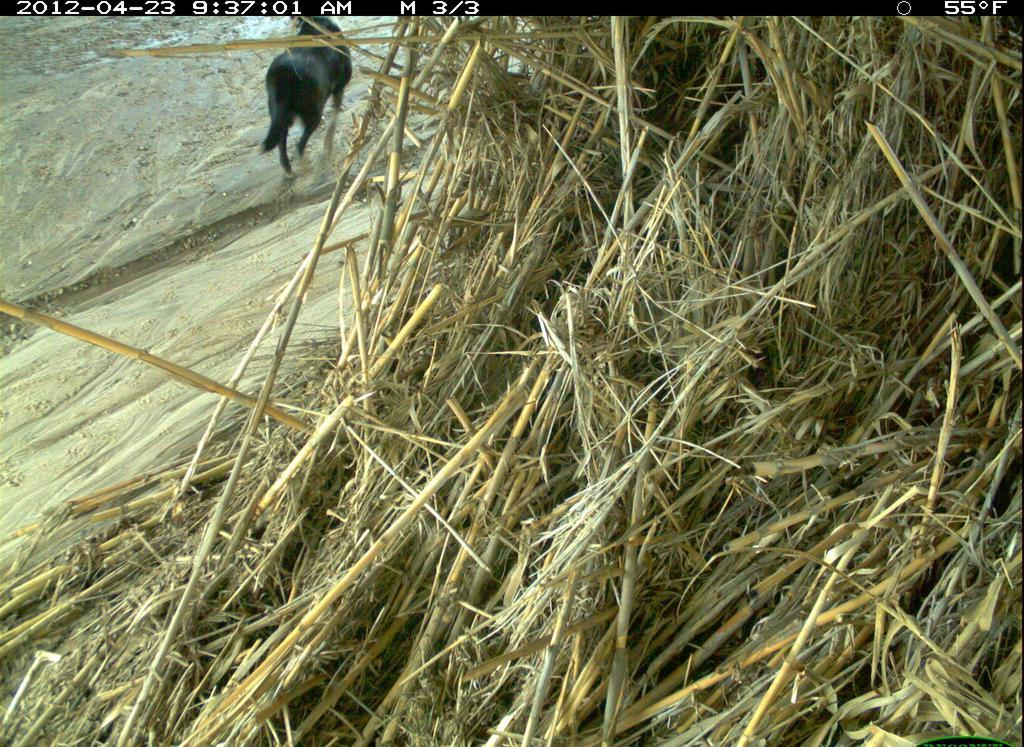dog: (254, 22, 381, 204)
